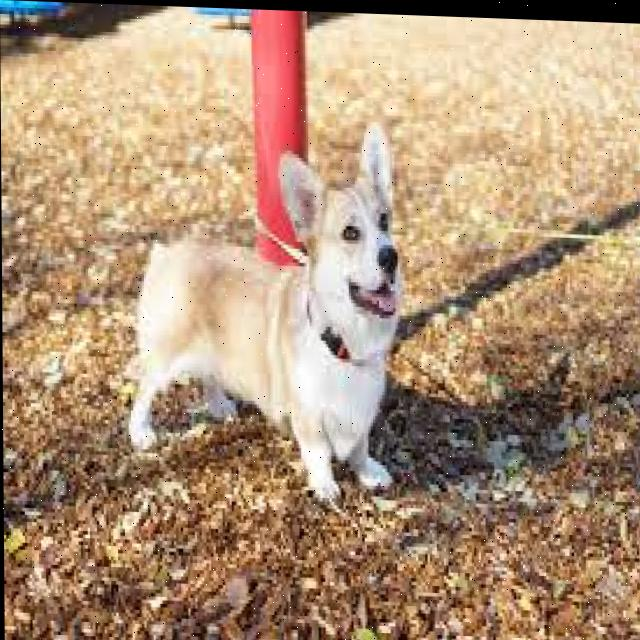CORGI: (131, 106, 405, 499)
